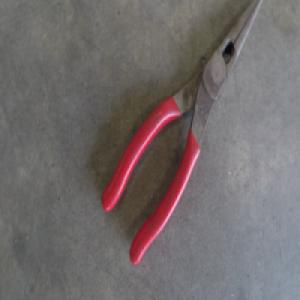Pliers: (100, 1, 268, 267)
